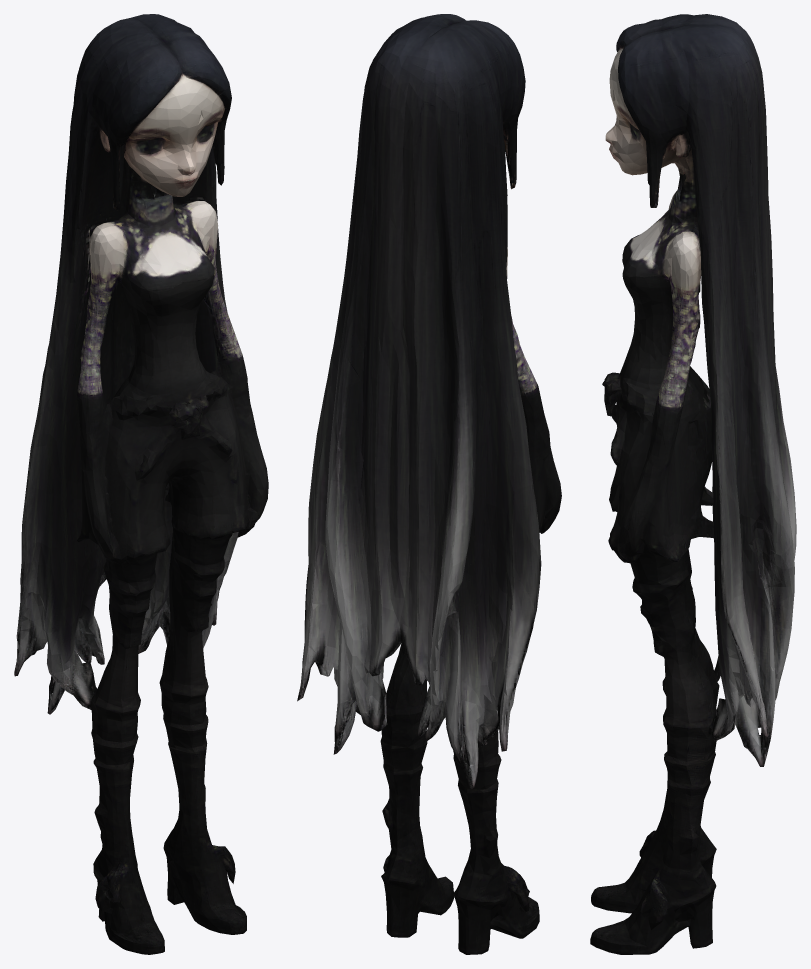
Rendered from generation-model_file.glb.
The picture shows the model from 3 angles, left to right: view 1: azimuth 30°, elevation 25°; view 2: azimuth 150°, elevation 25°; view 3: azimuth 270°, elevation 25°; orthographic projection. The views are drawn at different scales.
Parts seen in each view (by area): view 1: world; view 2: world; view 3: world.
Part boxes in pixels (<box>): world: <box>14,14,268,954</box>; world: <box>297,14,561,954</box>; world: <box>590,14,796,954</box>.
Bounding box in the file's own units: 0.2663 × 0.9998 × 0.2069.
1 material, 1 textured.
